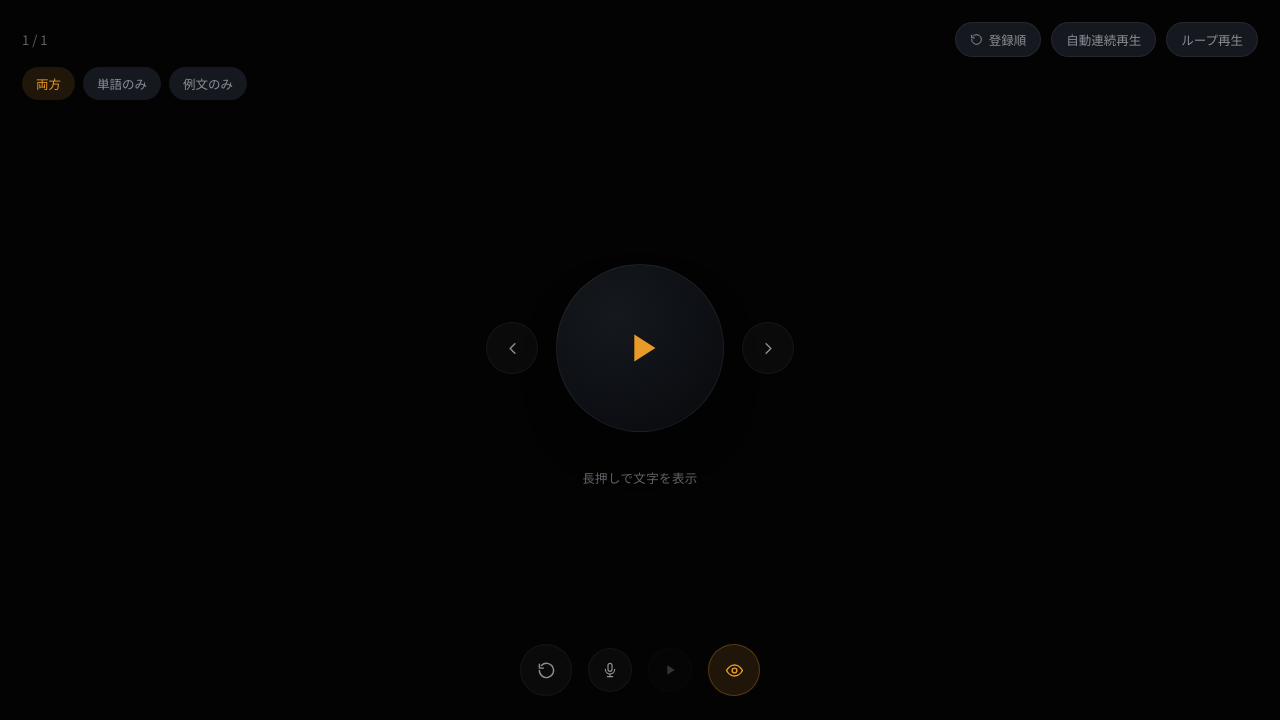
Test: recording (聞く画面) › denied microphone permission hides the record button
The image size is (1280, 720).
Click the button named "発音を録音": (610, 670) [588,648,632,692]
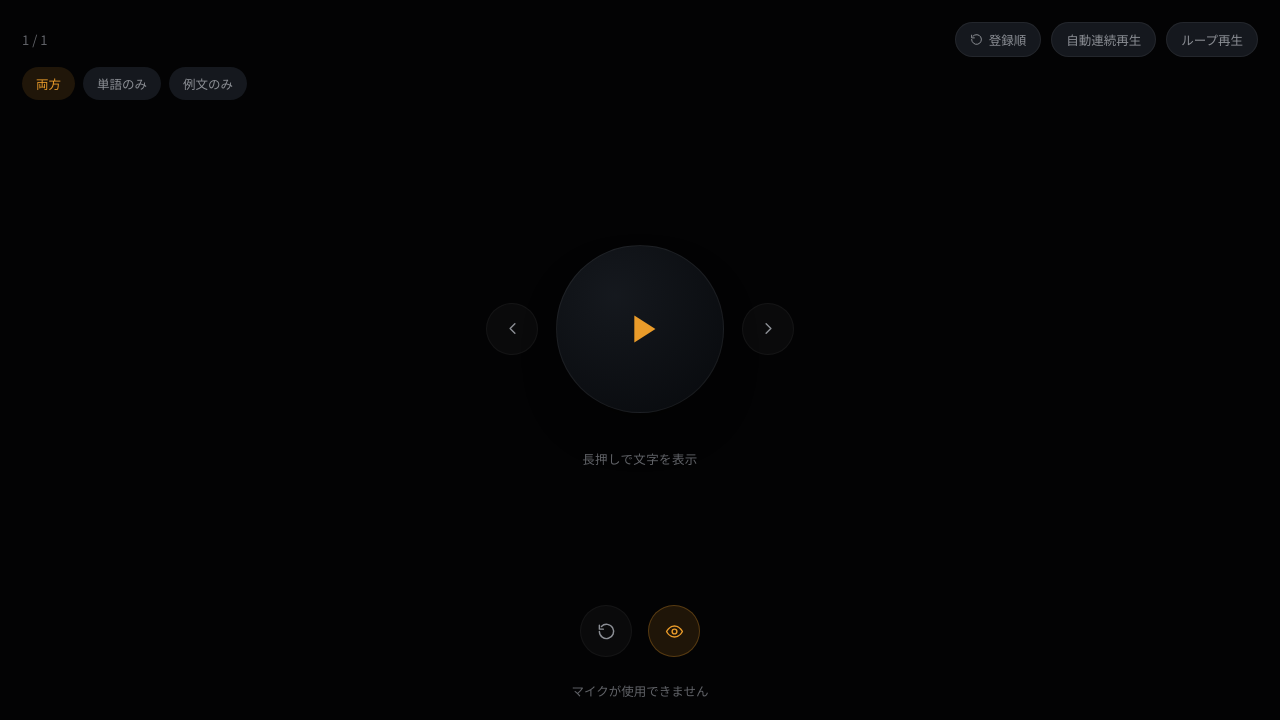
Expected: the text "マイクが使用できません" is shown, [572,681,708,700]
Expected: the button "発音を録音" is gone
